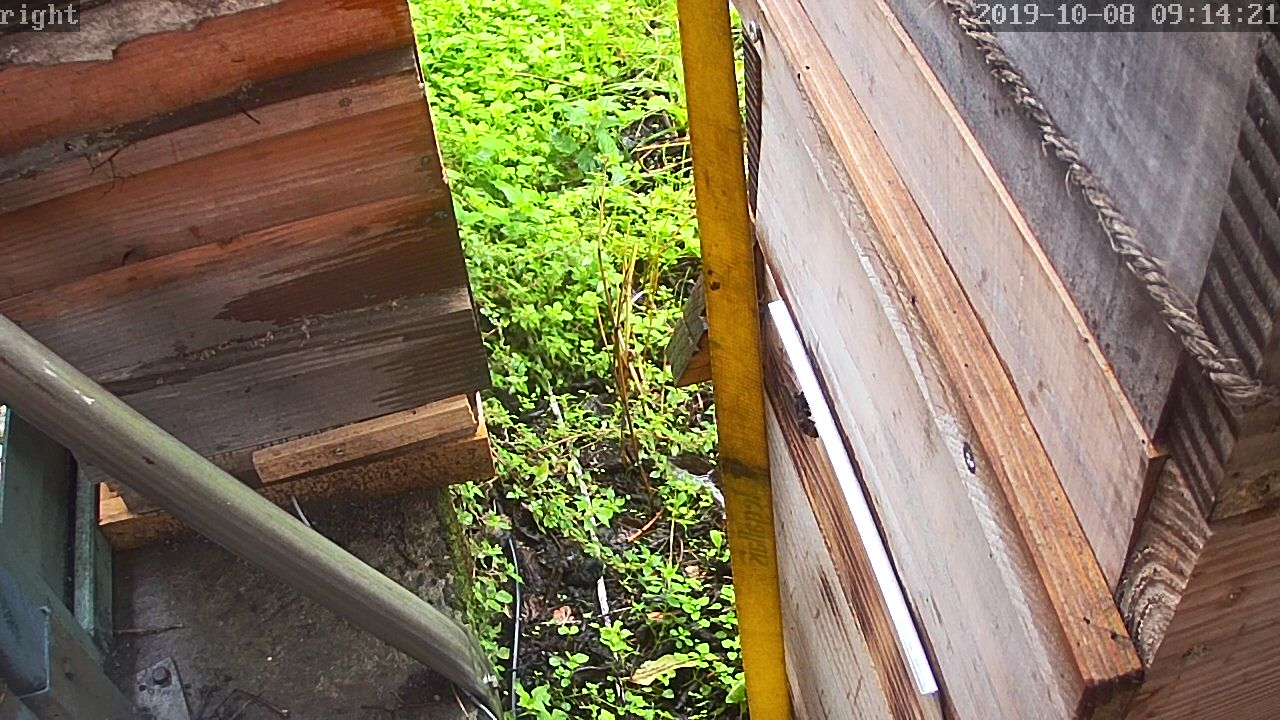bee: (1010, 102, 1079, 165)
hornet: (711, 532, 739, 592)
